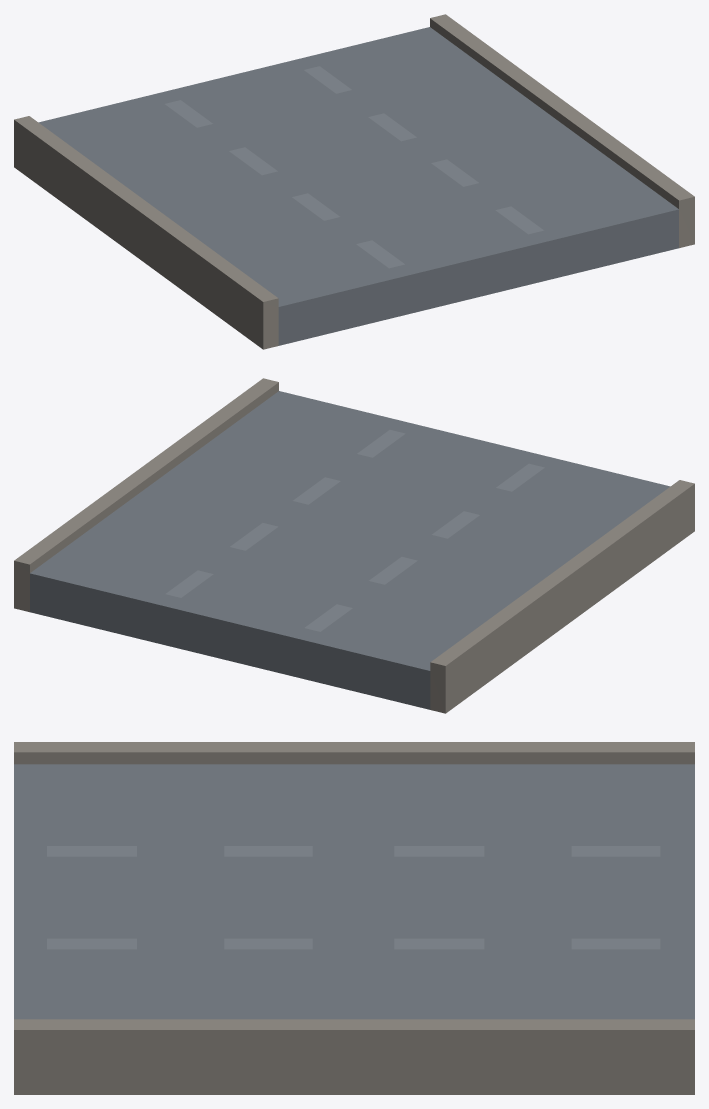
File: Scene-Road-Road.glb
3 views of the same model, one above another, from view 1: azimuth 30°, elevation 25°; view 2: azimuth 150°, elevation 25°; view 3: azimuth 270°, elevation 25° (orthographic). The views are drawn at different scales.
Visible parts, largest first — view 1: Scene-Road-Road; view 2: Scene-Road-Road; view 3: Scene-Road-Road.
Part boxes in pixels (x1,y1,x2,y2): Scene-Road-Road: (14,14,694,349); Scene-Road-Road: (14,378,694,713); Scene-Road-Road: (14,742,694,1094).
Bounding box in the file's own units: 10 × 1.06 × 10.
1 material, 1 textured.
